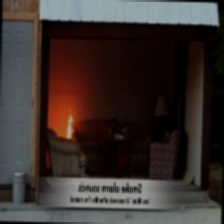fire: (58, 105, 83, 143)
